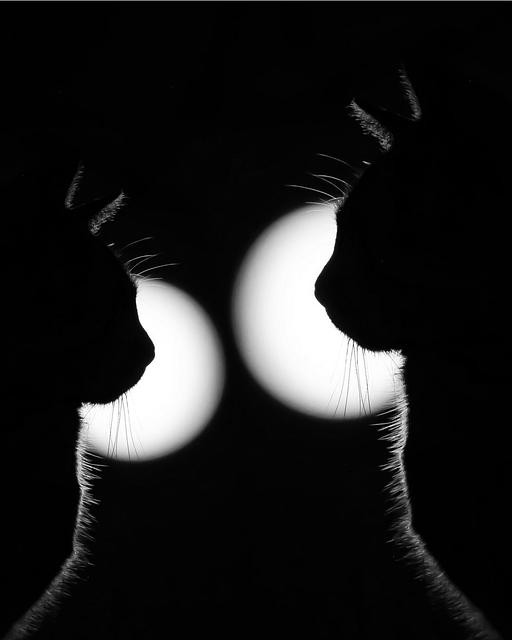Non_Gorille: (0, 30, 494, 640)
